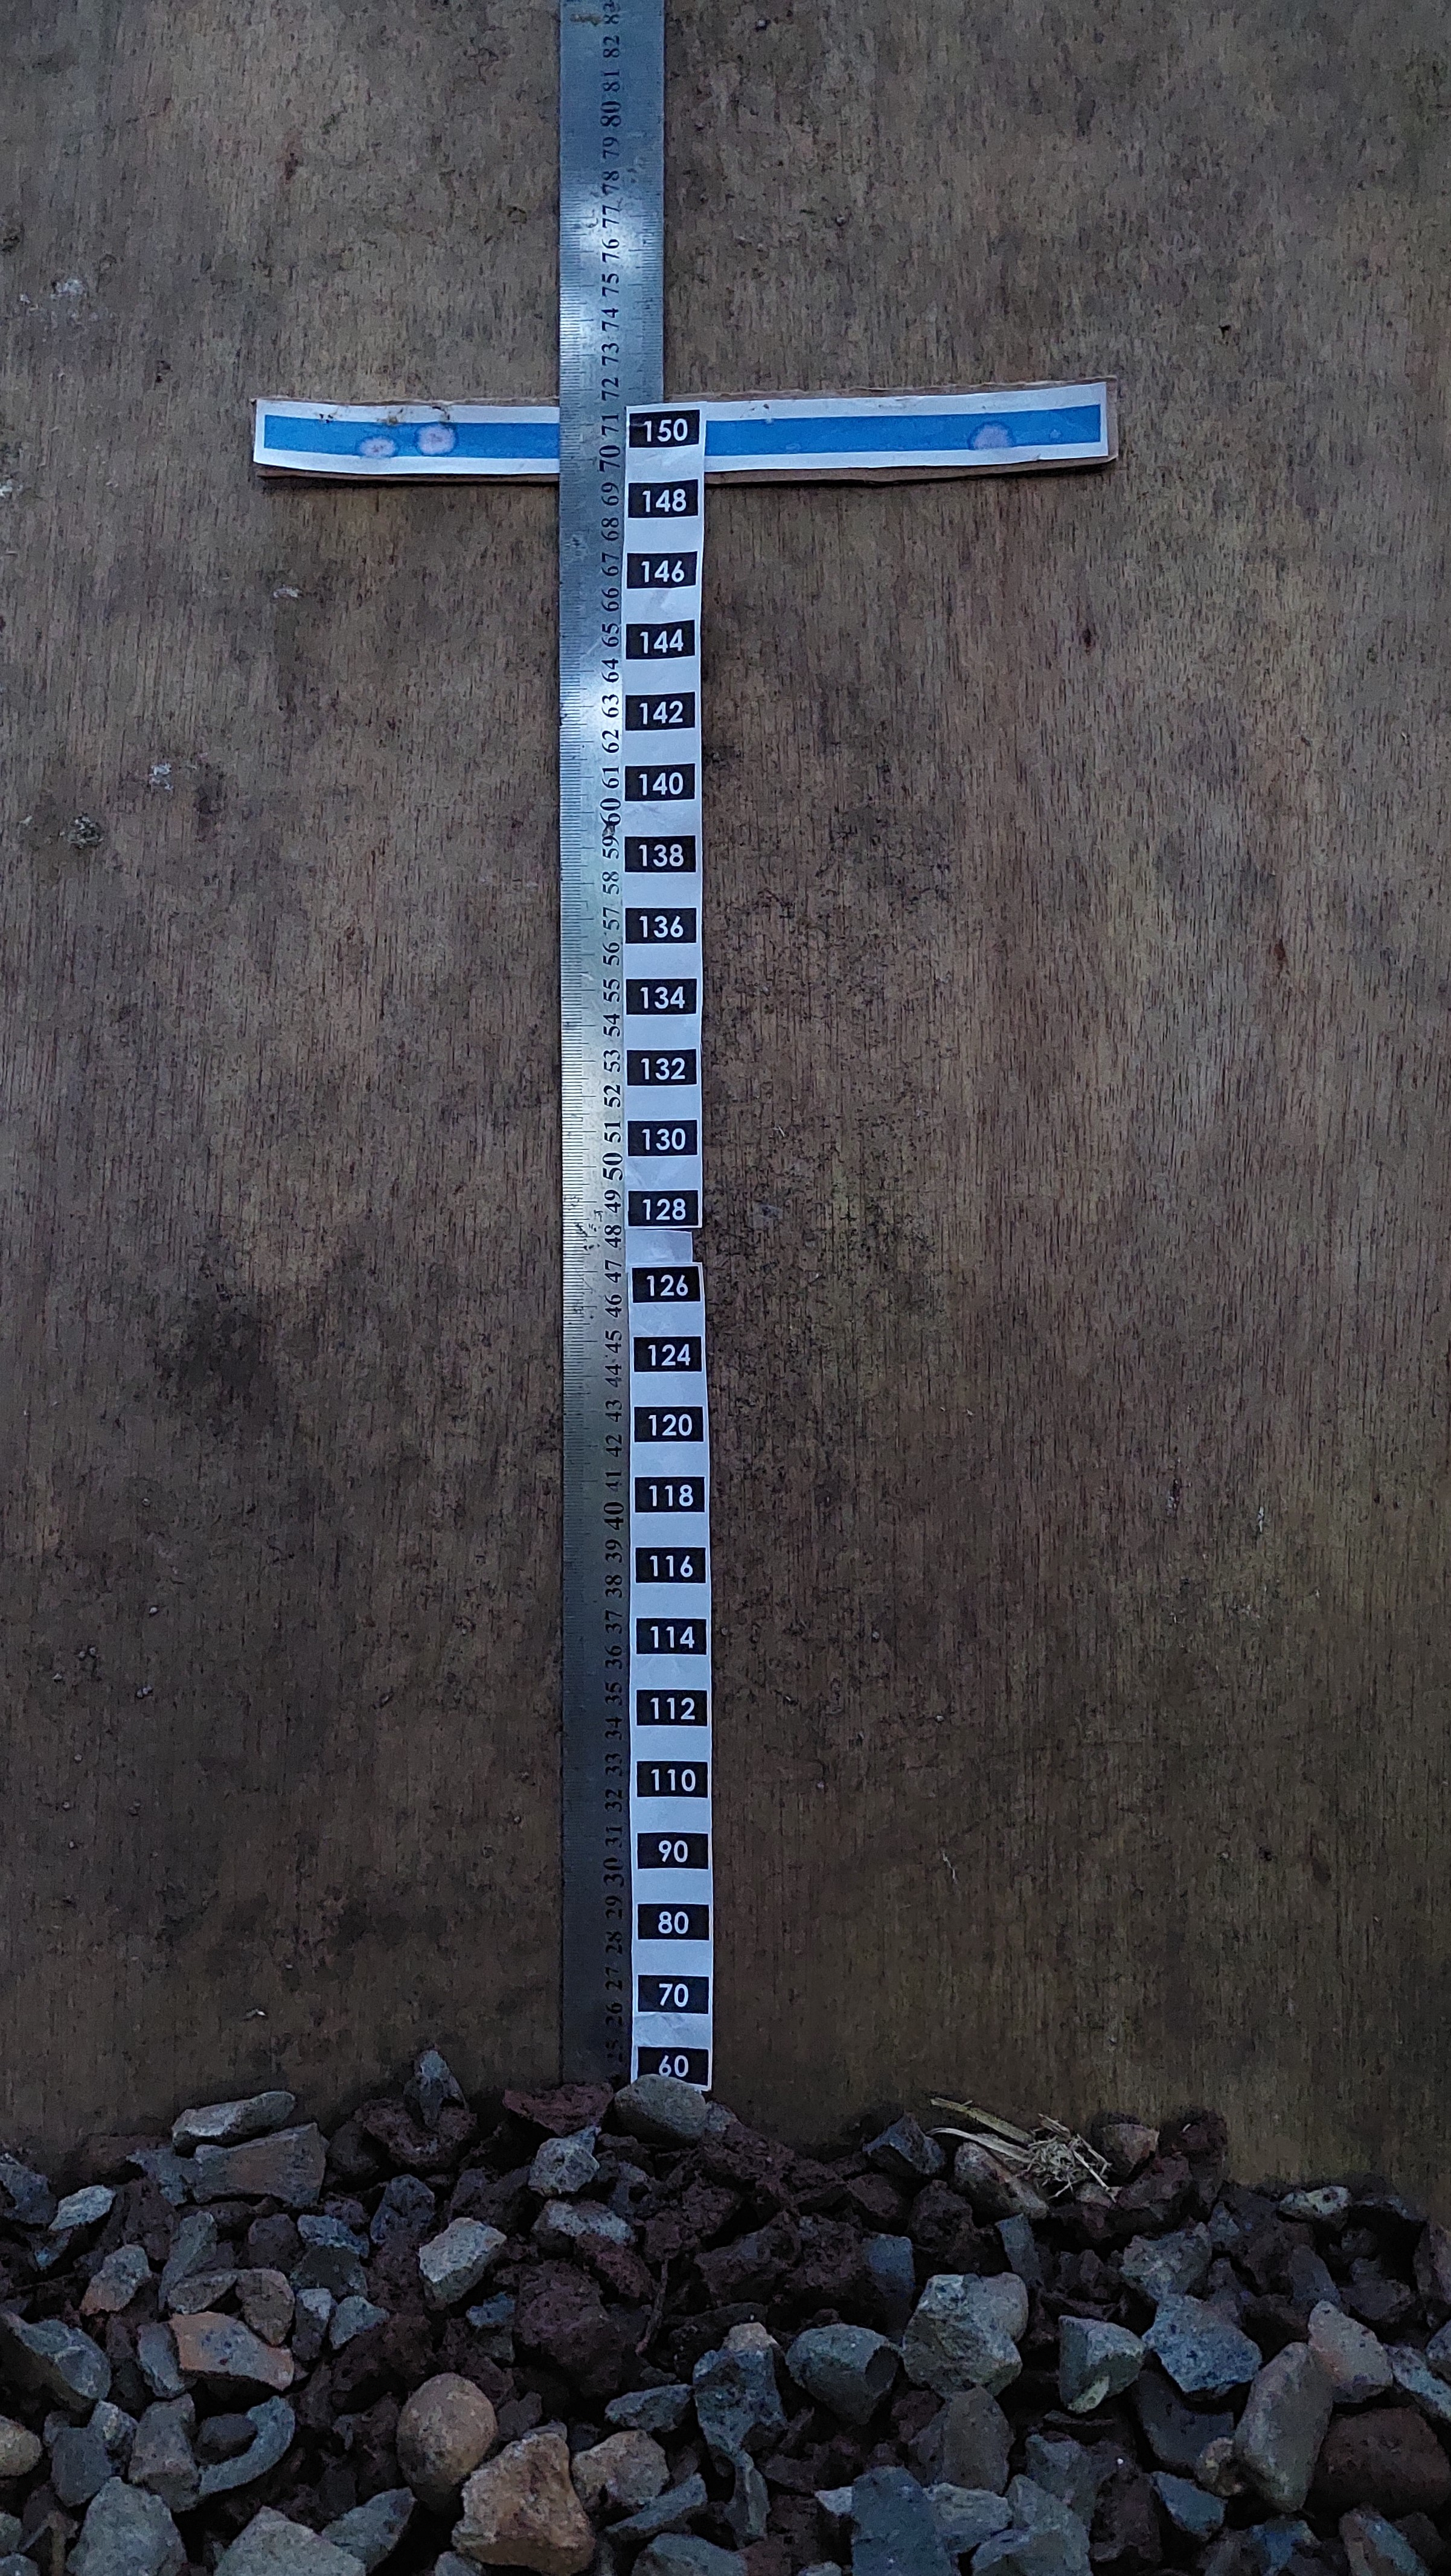kotak_2x1: (621, 971, 702, 1023), (630, 1683, 710, 1732), (632, 1755, 711, 1805), (632, 1969, 711, 2019), (632, 1900, 713, 1948), (630, 1401, 708, 1451), (632, 1541, 710, 1591), (621, 902, 702, 948), (623, 547, 702, 593), (630, 1614, 710, 1660), (621, 617, 697, 665), (621, 686, 697, 734), (623, 832, 701, 878), (630, 1472, 708, 1518), (625, 1044, 699, 1092), (632, 1828, 711, 1872), (625, 478, 701, 524), (628, 1330, 704, 1376), (621, 761, 699, 805), (625, 1116, 702, 1161), (628, 1261, 704, 1306), (626, 409, 704, 451), (626, 1187, 702, 1230)
mal_biru_150: (260, 396, 1106, 462)
